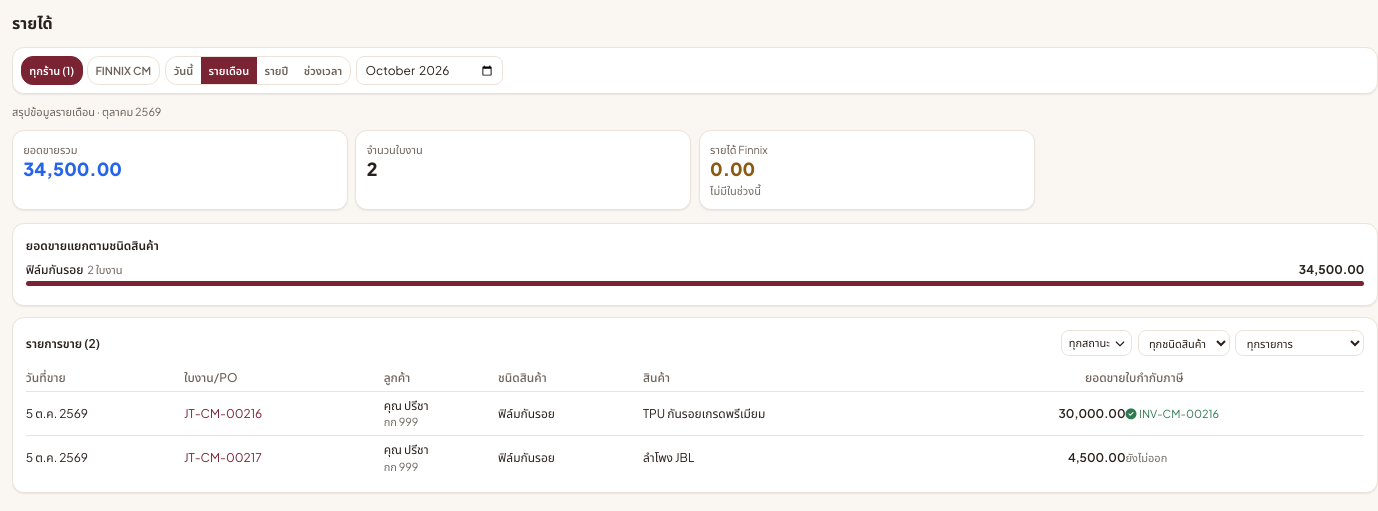
Test: RevenueModule › filters down to the sales still missing a tax invoice
Select "ยังไม่ออกใบกำกับภาษี" in the dropdown named "กรองตามใบกำกับภาษี": coordinates (1300, 343) [1235,330,1364,356]
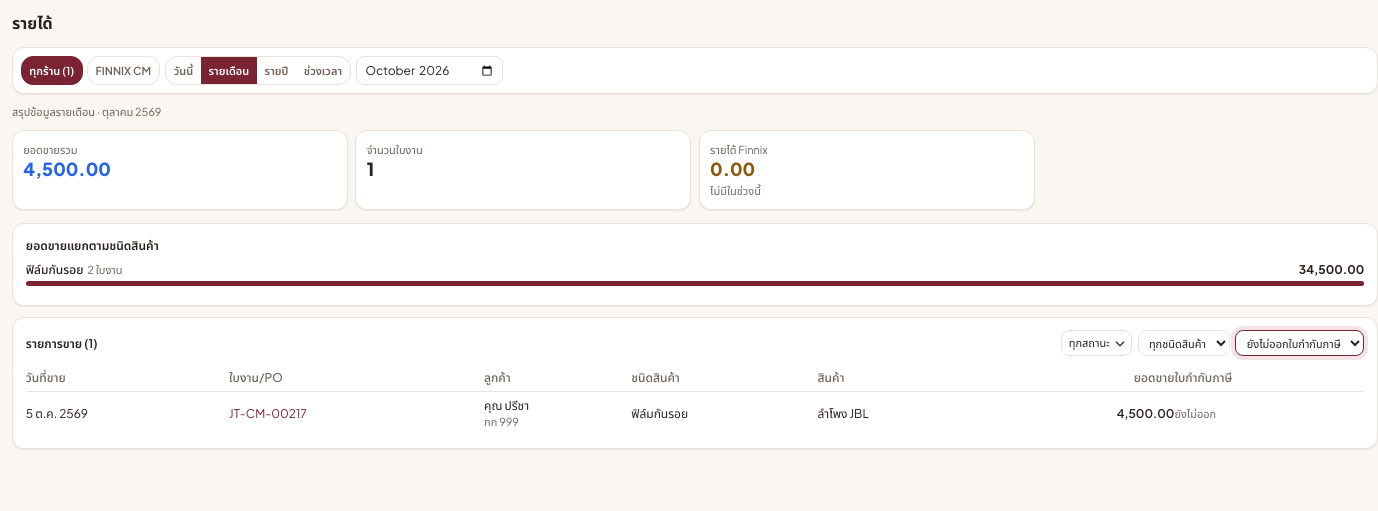
Check: the text "ลำโพง JBL" is shown, box [818,392,986,435]
Check: the text "TPU กันรอยเกรดพรีเมียม" is gone
